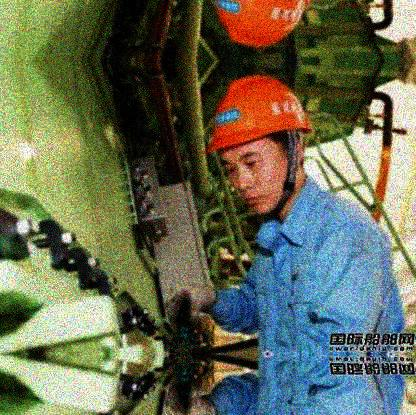helmet: (203, 74, 314, 215)
